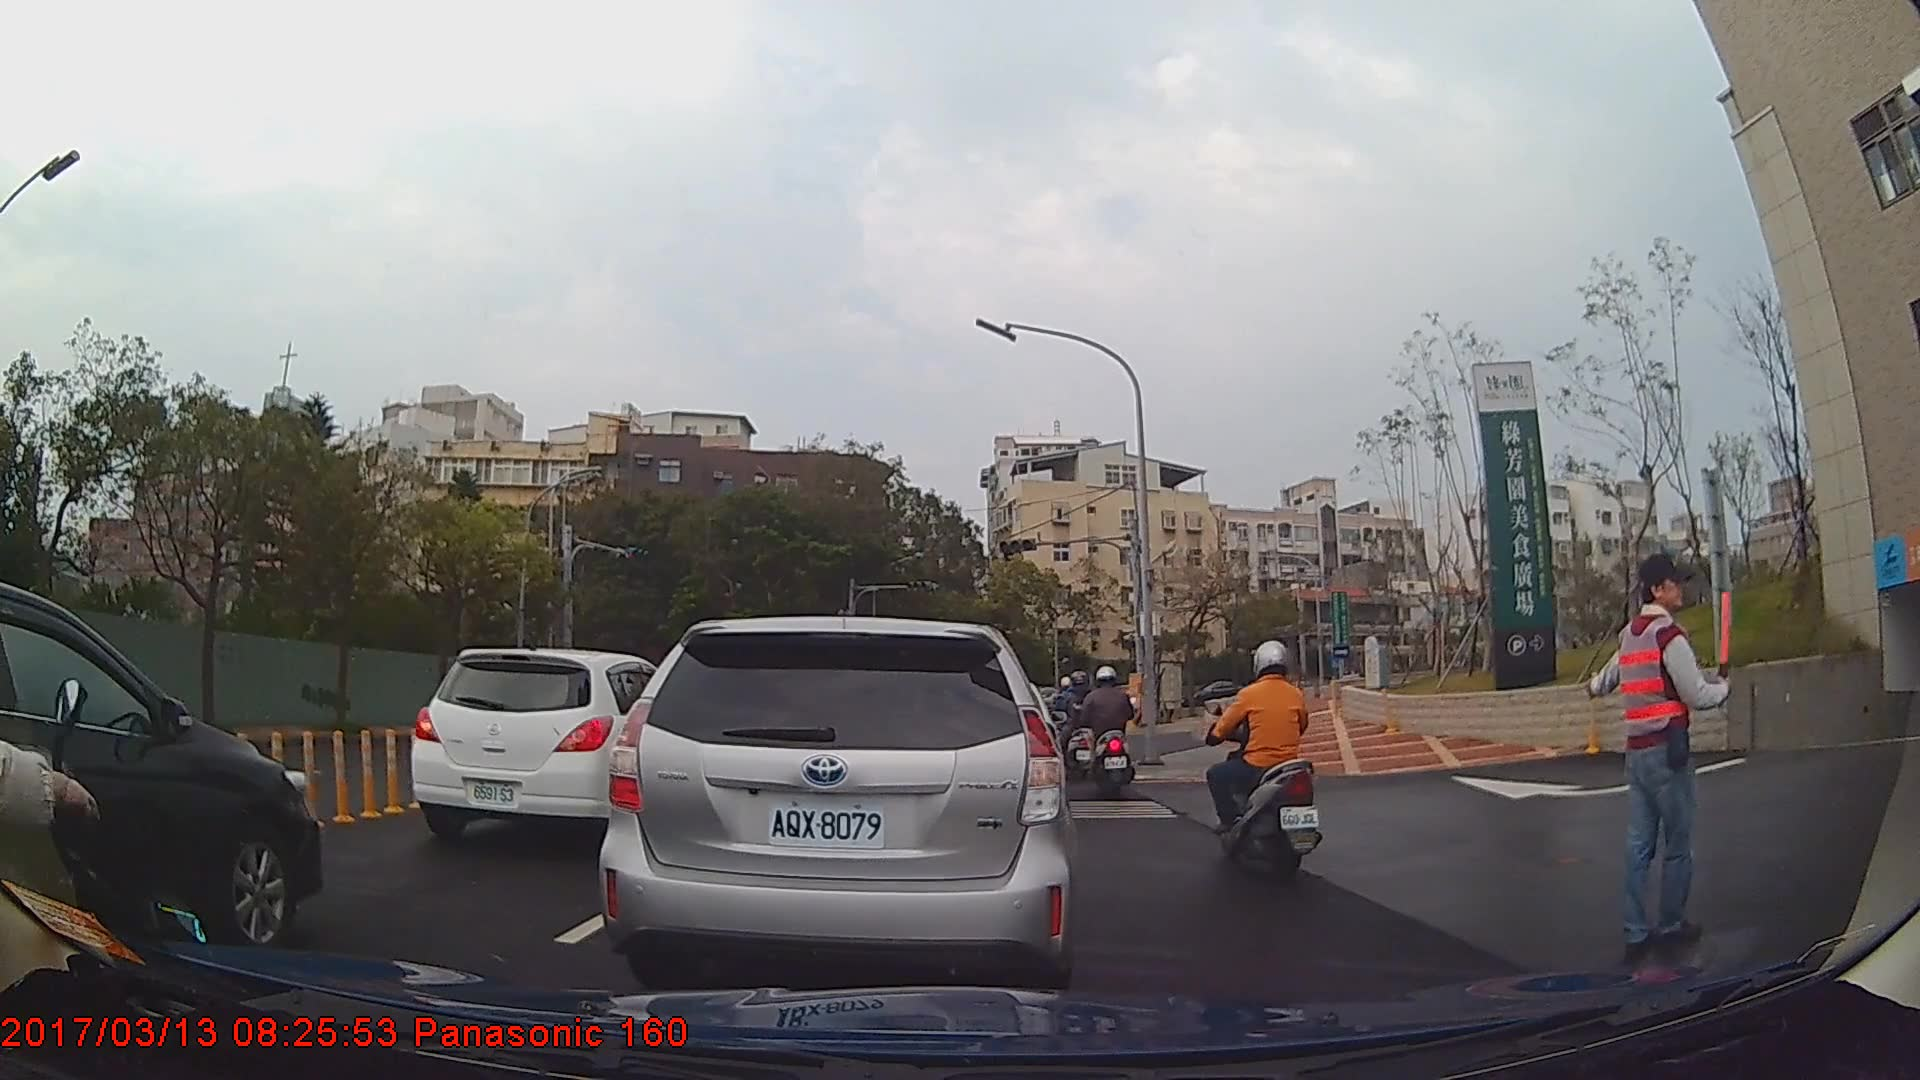pedestrian: (1588, 551, 1742, 959)
rider: (1205, 635, 1329, 879), (1078, 660, 1136, 806), (1061, 670, 1100, 780)
vehicle: (597, 616, 1074, 983), (0, 579, 322, 954), (411, 647, 718, 845), (1182, 677, 1250, 710)
